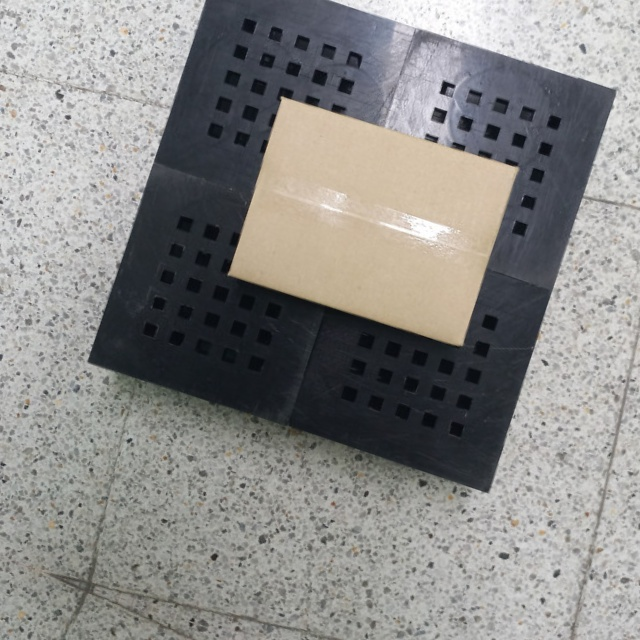box: (222, 90, 519, 355)
pallet: (80, 0, 627, 505)
